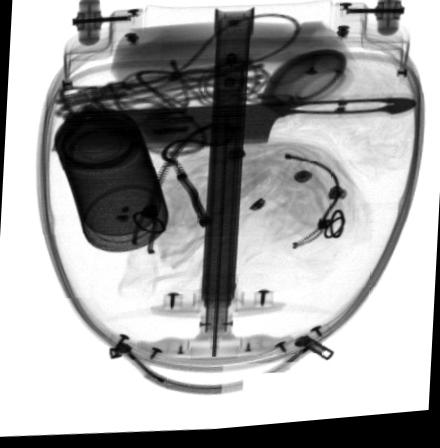Knife: (51, 104, 416, 152)
